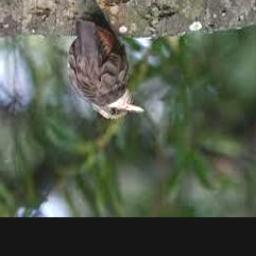Cuckoo: (67, 16, 144, 119)
